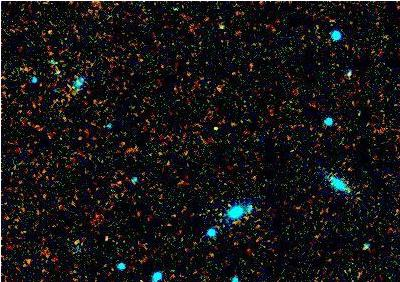star: (199, 118, 229, 148)
